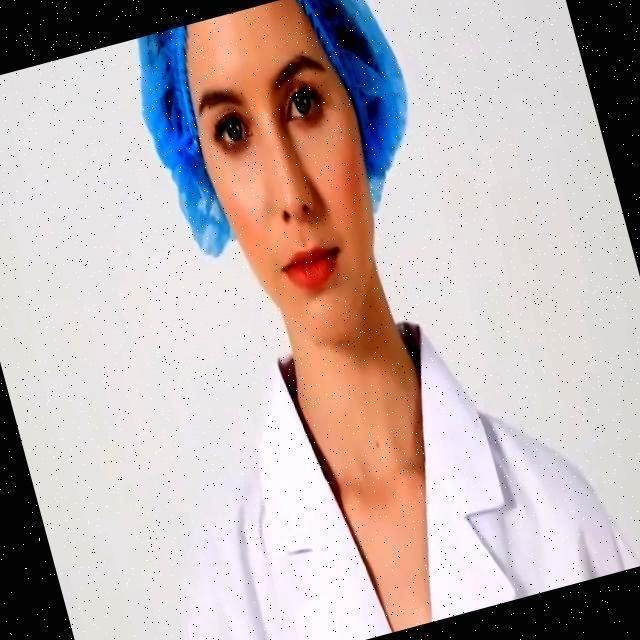gloves: (83, 0, 400, 110)
no_hairnet: (226, 193, 368, 286)
